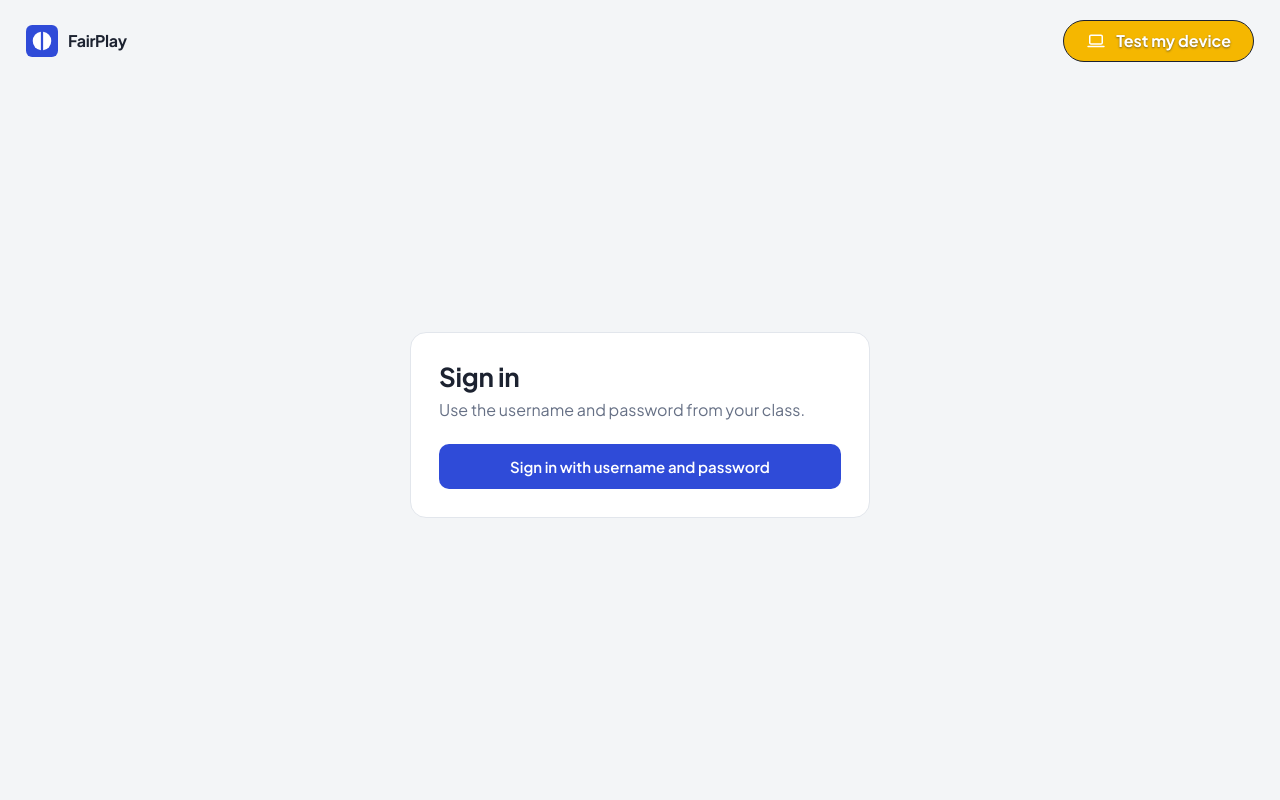
Test: device test start › Cancel closes the dialog while it is starting
Click the button "Test my device" at (1159, 41), box [1063,20,1254,62]
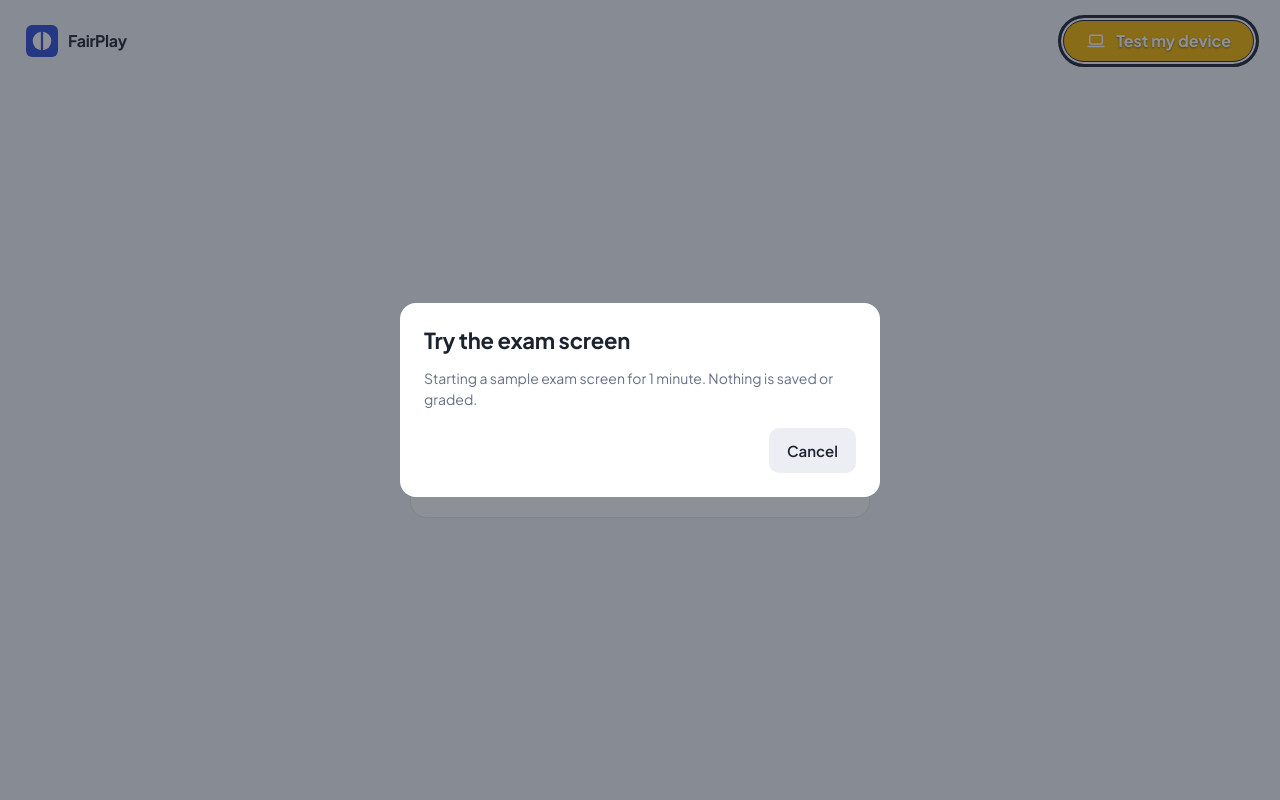
Click the button "Cancel" at (813, 451), box [769,428,856,473]
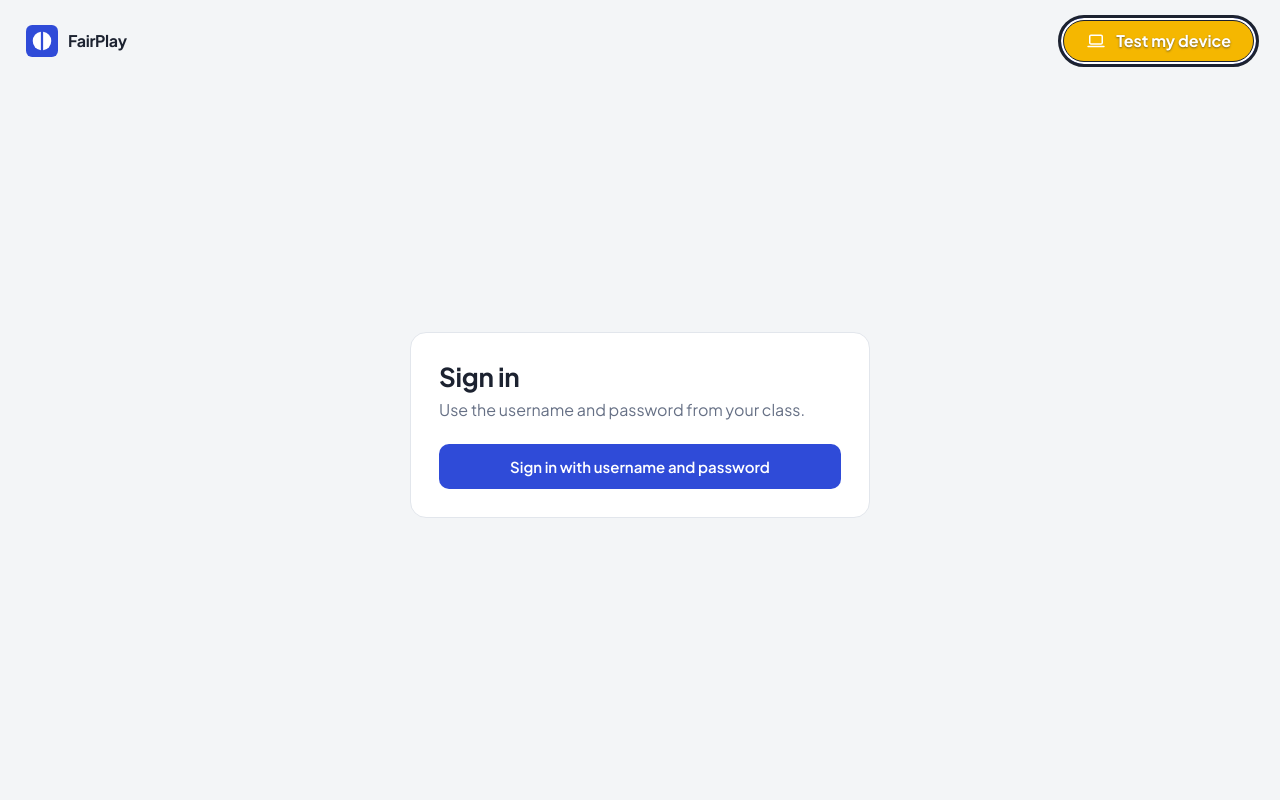
Expected: the dialog is gone
